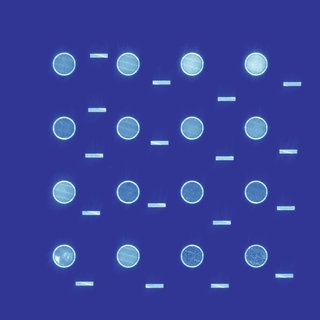overheated: (55, 256, 60, 262)
